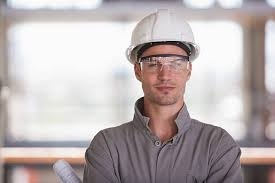helmet: (125, 6, 203, 67)
person with partial safety: (82, 7, 244, 182)
